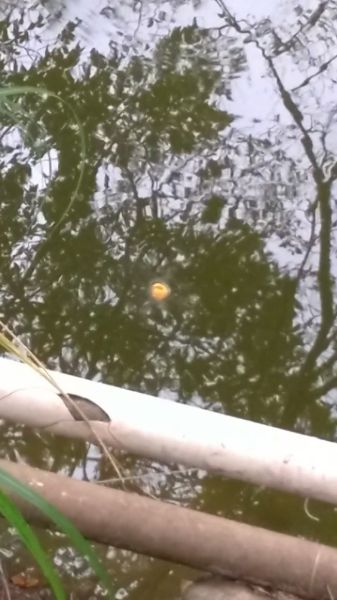eggs: (147, 277, 172, 302)
